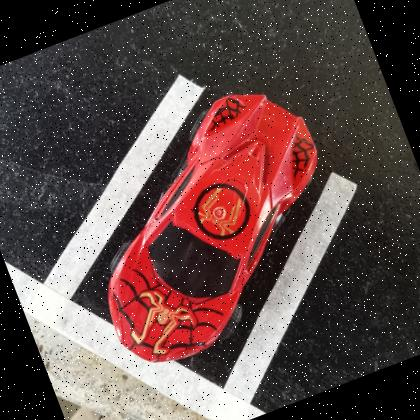Car: (105, 92, 317, 362)
